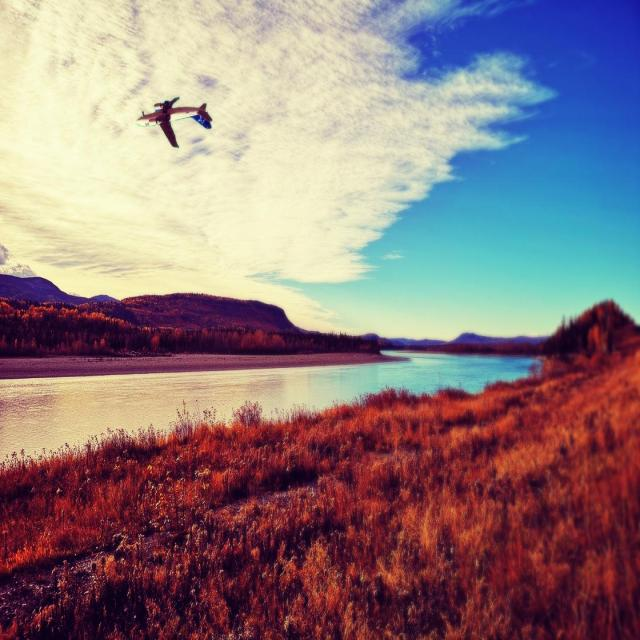airplane: (136, 96, 212, 148)
